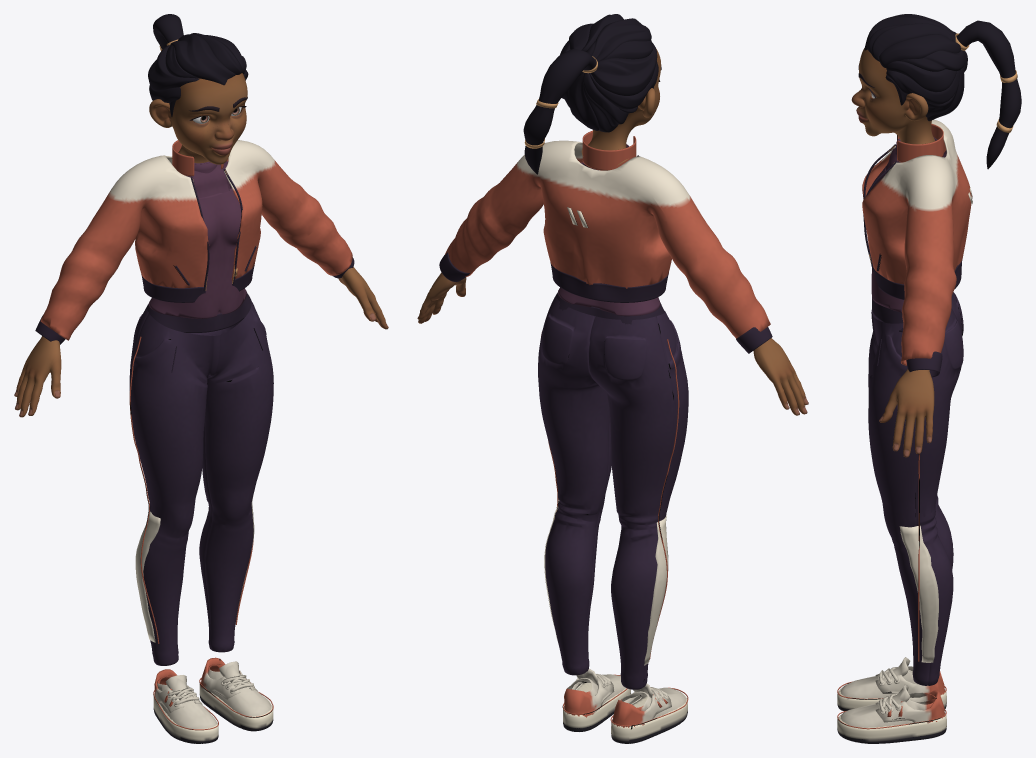
The model's file is nyra-visual.glb.
The picture shows the model from 3 angles, left to right: view 1: azimuth 30°, elevation 25°; view 2: azimuth 150°, elevation 25°; view 3: azimuth 270°, elevation 25°; orthographic projection. The views are drawn at different scales.
Visible parts, largest first — view 1: NYRA outfit, NYRA skin, NYRA hair; view 2: NYRA outfit, NYRA hair, NYRA skin; view 3: NYRA outfit, NYRA hair, NYRA skin.
Boxes of the visible parts, x1=… form: NYRA outfit: x1=35, y1=140, x2=354, y2=743; NYRA skin: x1=14, y1=73, x2=388, y2=417; NYRA hair: x1=148, y1=14, x2=248, y2=120; NYRA outfit: x1=439, y1=130, x2=772, y2=743; NYRA hair: x1=523, y1=14, x2=661, y2=174; NYRA skin: x1=417, y1=48, x2=808, y2=415; NYRA outfit: x1=837, y1=119, x2=972, y2=743; NYRA hair: x1=858, y1=14, x2=1021, y2=169; NYRA skin: x1=851, y1=48, x2=935, y2=457.
Size of the model in its own units: 1.01 by 1.77 by 0.4223.
5 materials, 5 textured.
